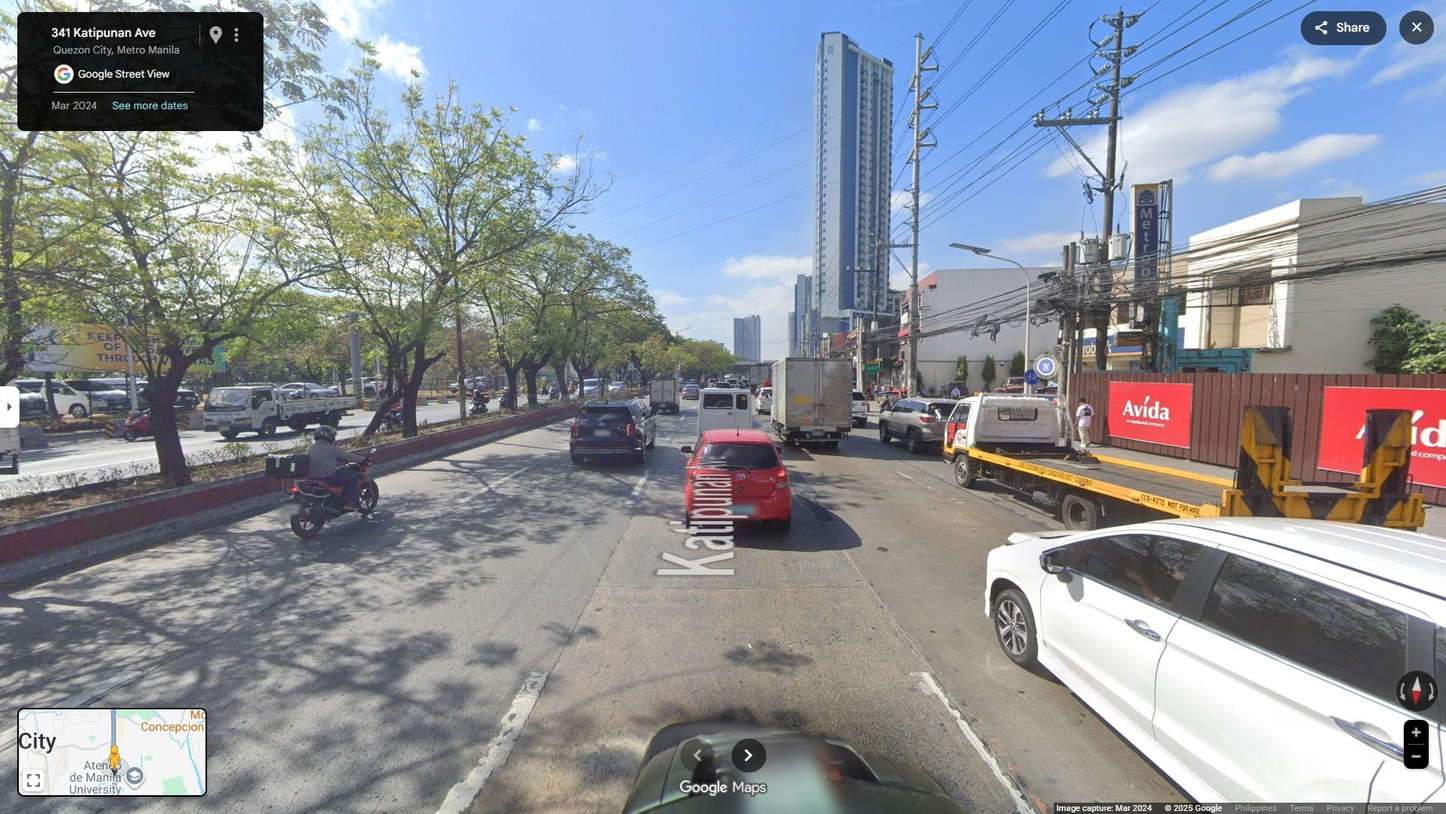pedestrian: (1074, 397, 1095, 448), (949, 385, 961, 408)
